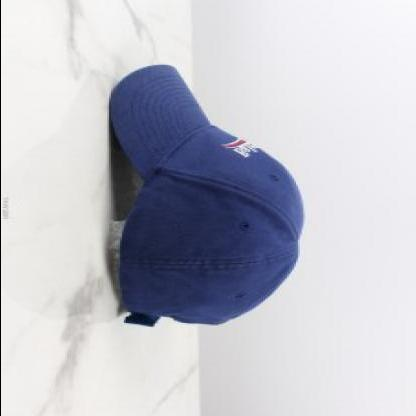cap: (90, 60, 326, 333)
